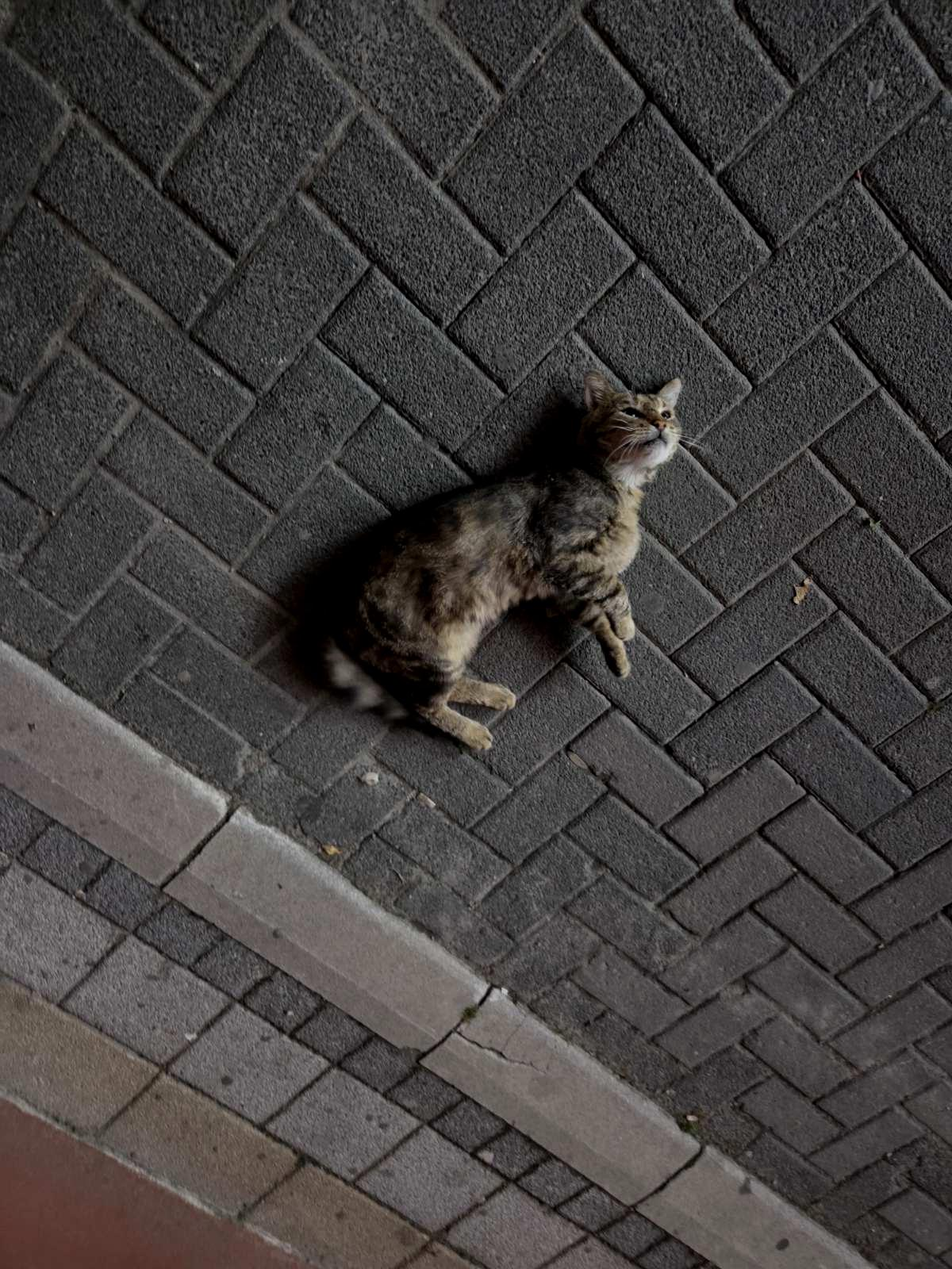macka: (318, 370, 687, 757)
